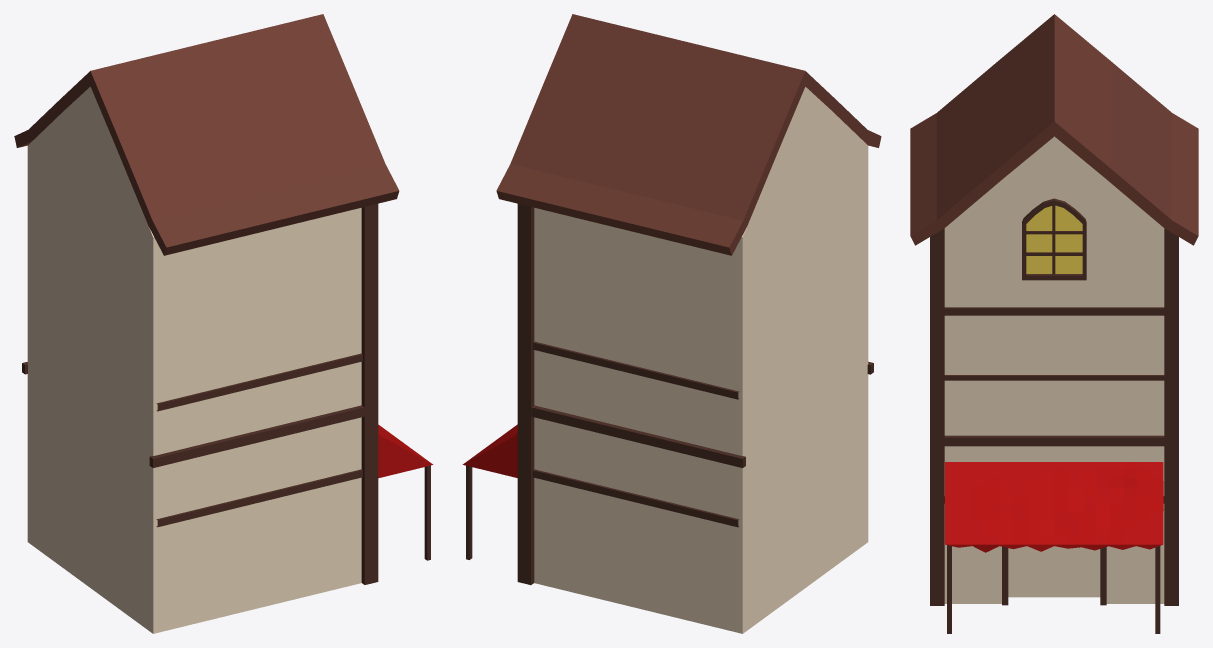
File: Building_3.fbx
3 views of the same model, side by side, from view 1: azimuth 30°, elevation 25°; view 2: azimuth 150°, elevation 25°; view 3: azimuth 270°, elevation 25° (orthographic). The views are drawn at different scales.
Parts seen in each view (by area): view 1: Building_3; view 2: Building_3; view 3: Building_3.
Part boxes in pixels (x1,y1,x2,y2): Building_3: [14, 14, 433, 633]; Building_3: [462, 14, 881, 633]; Building_3: [910, 14, 1198, 633].
Size of the model in its own units: 386 by 661 by 353.
